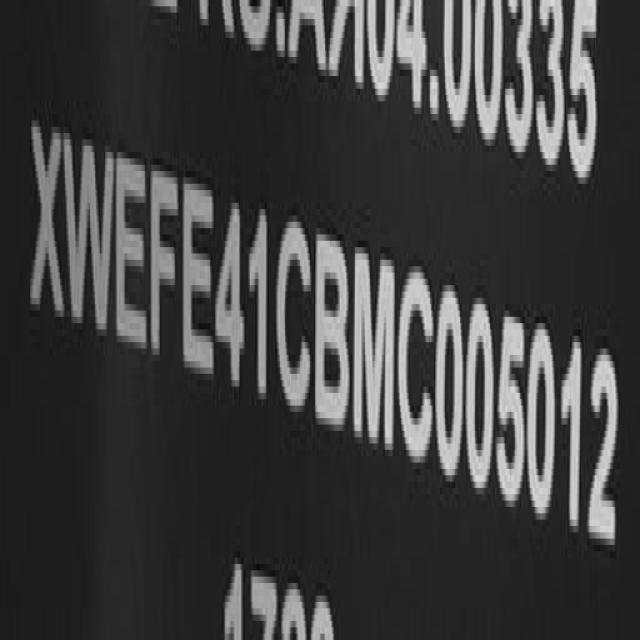0: (435, 281, 465, 482), (466, 295, 495, 499), (528, 319, 556, 527)
1: (559, 328, 582, 540), (251, 199, 272, 407)
2: (591, 348, 623, 554)
4: (214, 201, 246, 400)
5: (499, 306, 527, 513)
B: (313, 228, 351, 439)
C: (398, 260, 435, 474), (276, 210, 313, 417)
E: (183, 172, 216, 390), (118, 143, 150, 365)
F: (150, 162, 180, 378)
M: (354, 240, 398, 460)
W: (64, 126, 116, 349)
X: (29, 114, 67, 332)
